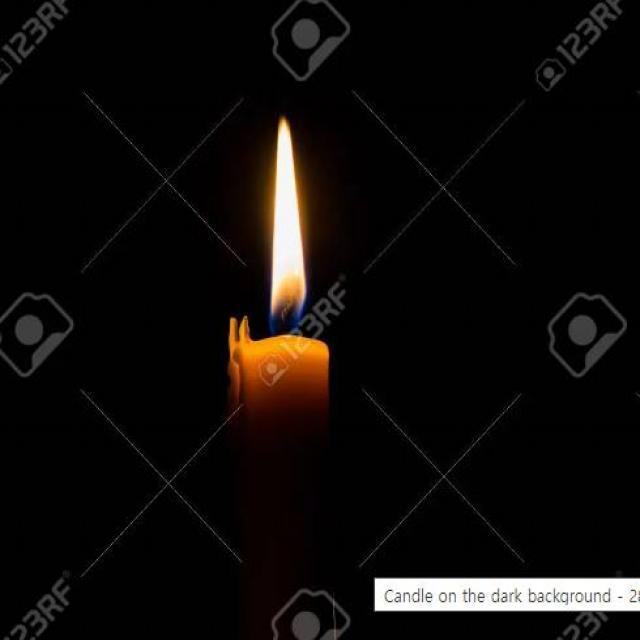Fire: (270, 120, 306, 333)
